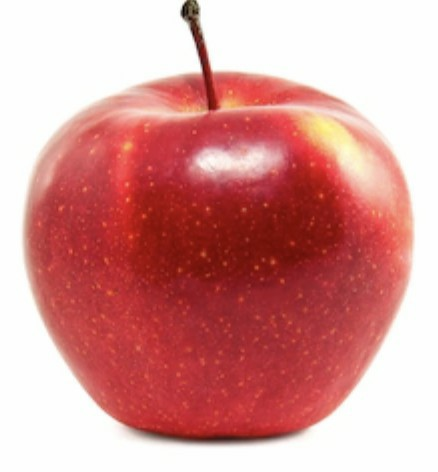fresh_apple: (29, 69, 414, 439)
